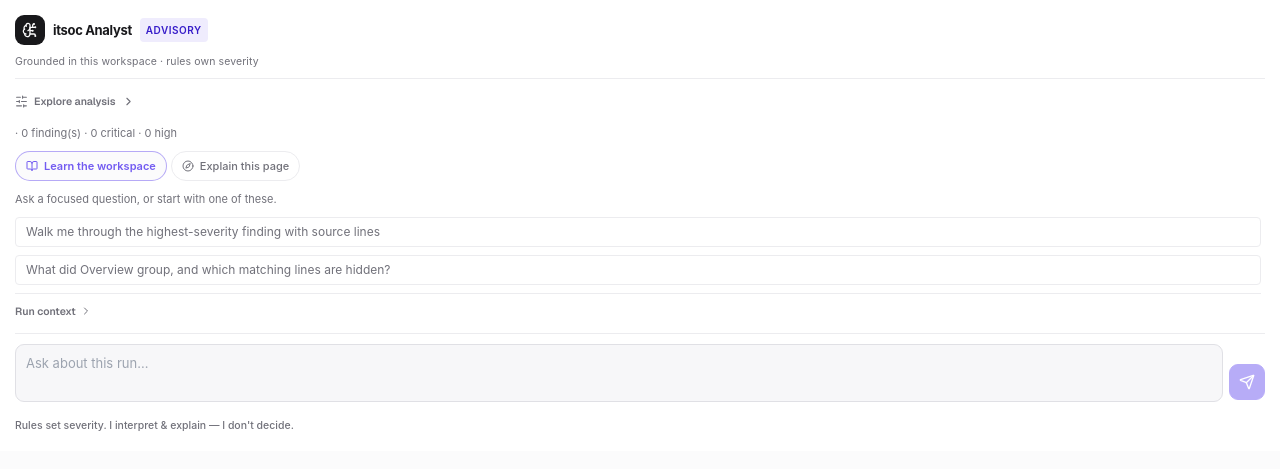
Test: AI copilot Showcase (design-v2 §4) › renders a real is-* result card with advisory chip, cited count, and deep-link
In the text box named "Ask the AI analyst": (619, 373) [15,344,1223,402], type "Show me the critical incidents"
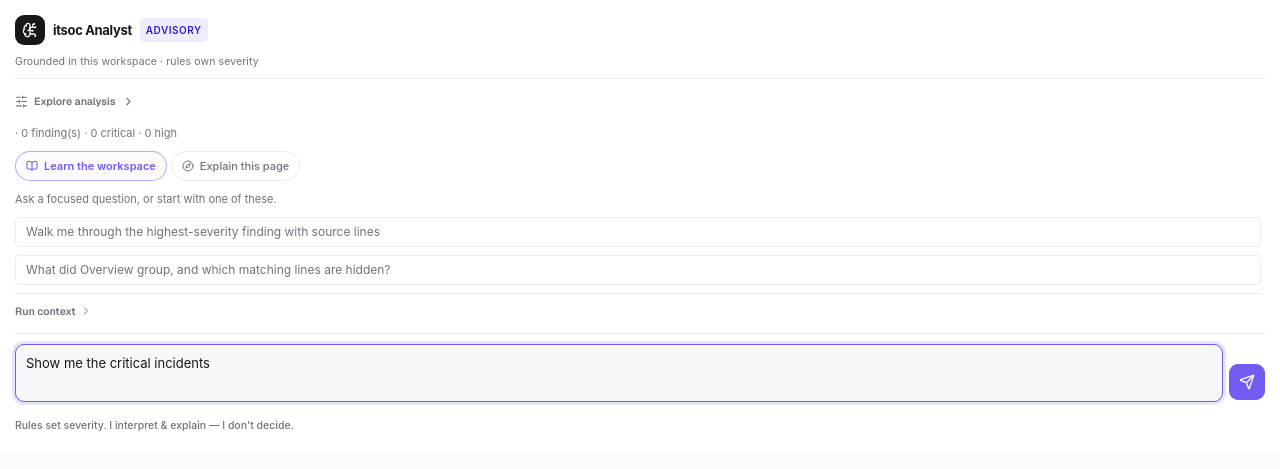
Click the button named "Send": (1247, 382) [1229,364,1265,400]
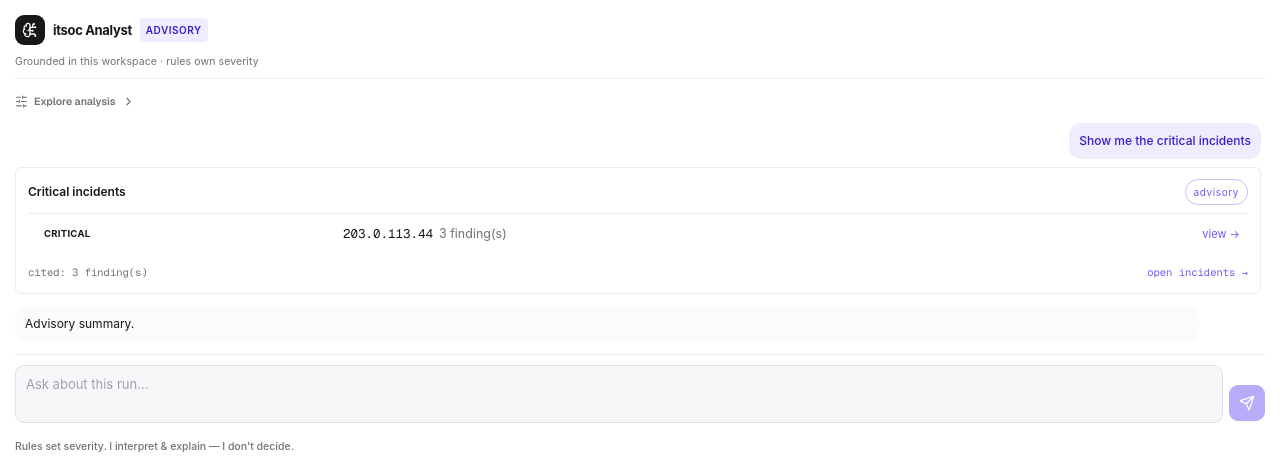
Now the heading "Critical incidents" is shown, box [28,182,126,202]
Now the text "advisory" below "Show me the critical incidents" is shown, box [1194,186,1239,198]
Now the text "CRITICAL" is shown, box [44,228,90,239]
